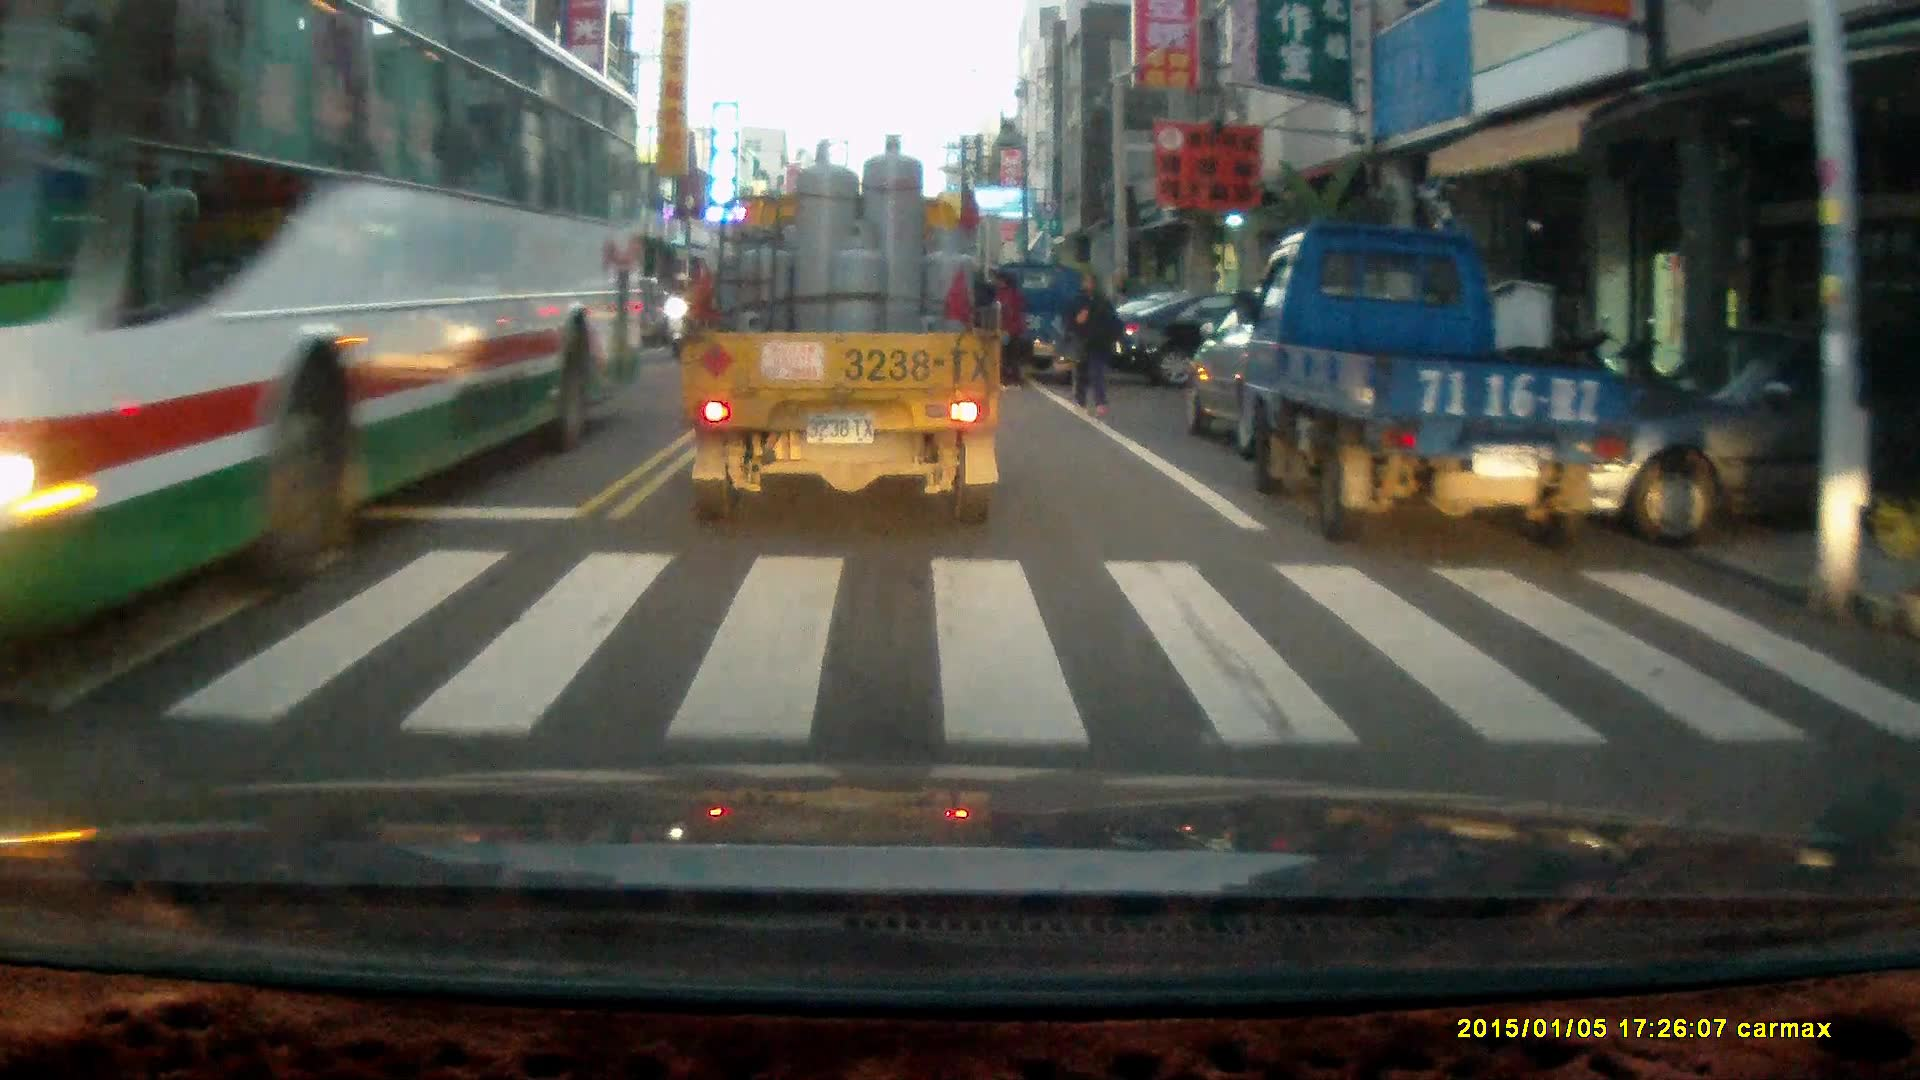pedestrian: (1066, 269, 1128, 416), (991, 267, 1026, 389)
rider: (661, 271, 698, 361)
vehicle: (1, 16, 641, 634), (1229, 218, 1635, 546), (679, 131, 1009, 530), (1179, 283, 1454, 467), (1113, 274, 1349, 389), (985, 260, 1106, 387)
